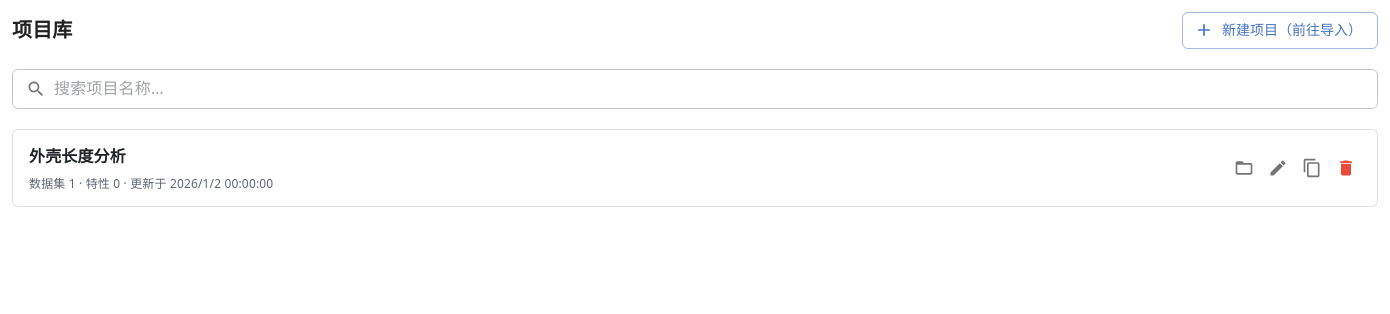
Test: ProjectLibraryPage › 复制项目 → 列表出现「副本」
Expected: the heading "外壳长度分析" is shown, x1=29 y1=142 x2=126 y2=170
What coordinates should you click on to do the following:
click the button named "复制项目"
I would click on:
 (1312, 168)
Its box is x1=1297 y1=152 x2=1327 y2=182.
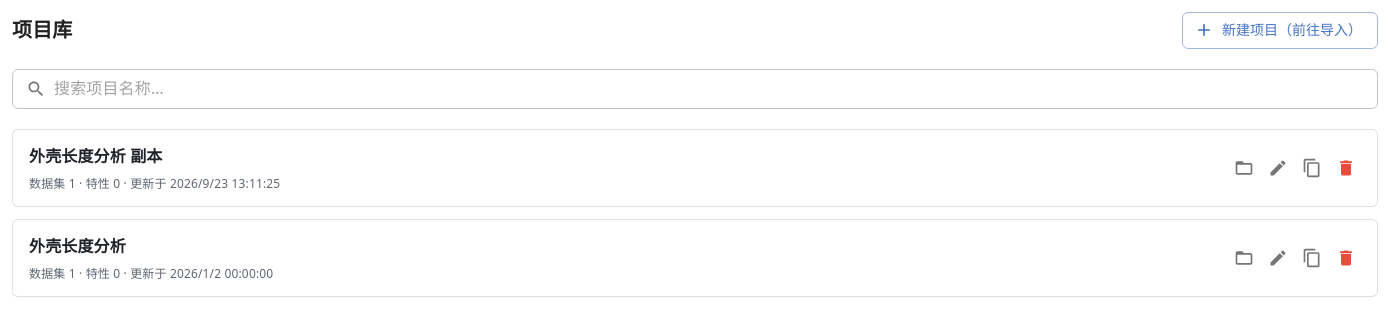
Expected: the heading "外壳长度分析 副本" is shown, x1=29 y1=142 x2=162 y2=170
